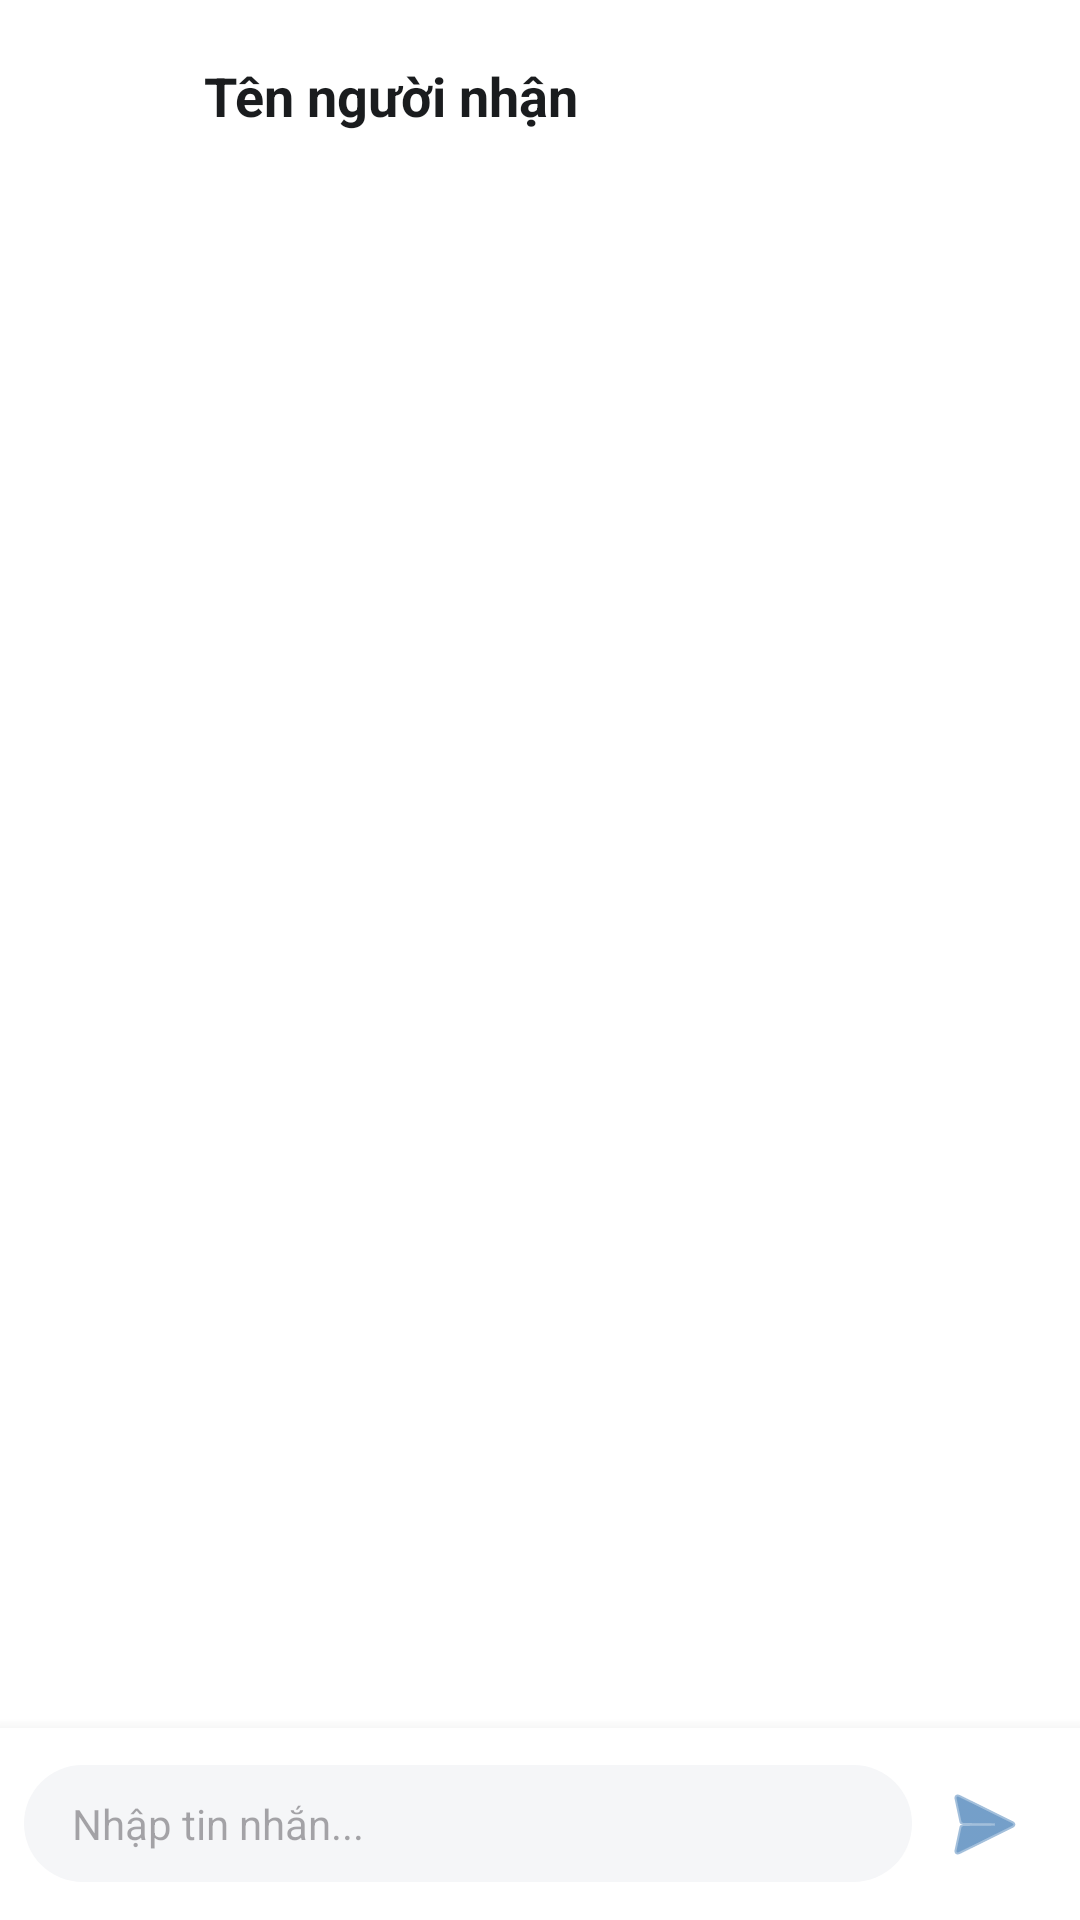

Icon click points for this 1080×1920 phone screenshot, format (x=x, y=y):
send: (x=985, y=1824)
